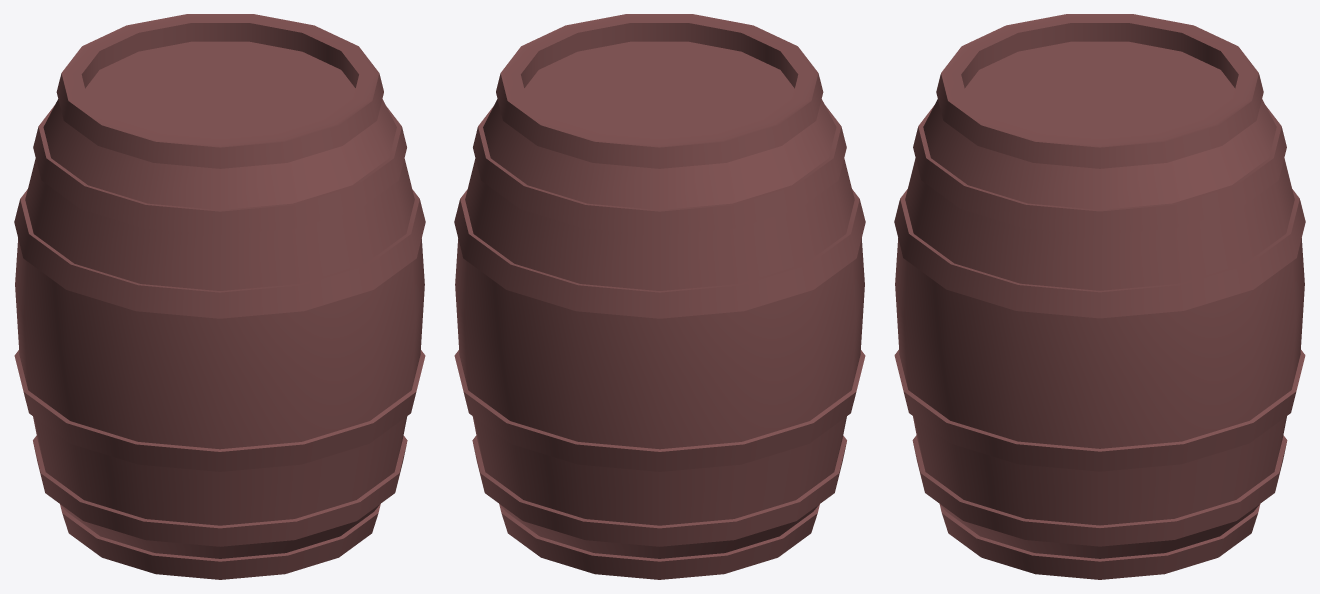
Rendered from Barril.fbx.
The picture shows the model from 3 angles, left to right: view 1: azimuth 30°, elevation 25°; view 2: azimuth 150°, elevation 25°; view 3: azimuth 270°, elevation 25°; orthographic projection.
Visible parts, largest first — view 1: pCylinder1; view 2: pCylinder1; view 3: pCylinder1.
Boxes of the visible parts, x1,y1,x2,y2 form: pCylinder1: (14,14,425,579); pCylinder1: (454,14,865,579); pCylinder1: (894,14,1305,579).
Bounding box in the file's own units: 8.25 × 9.61 × 8.29.
